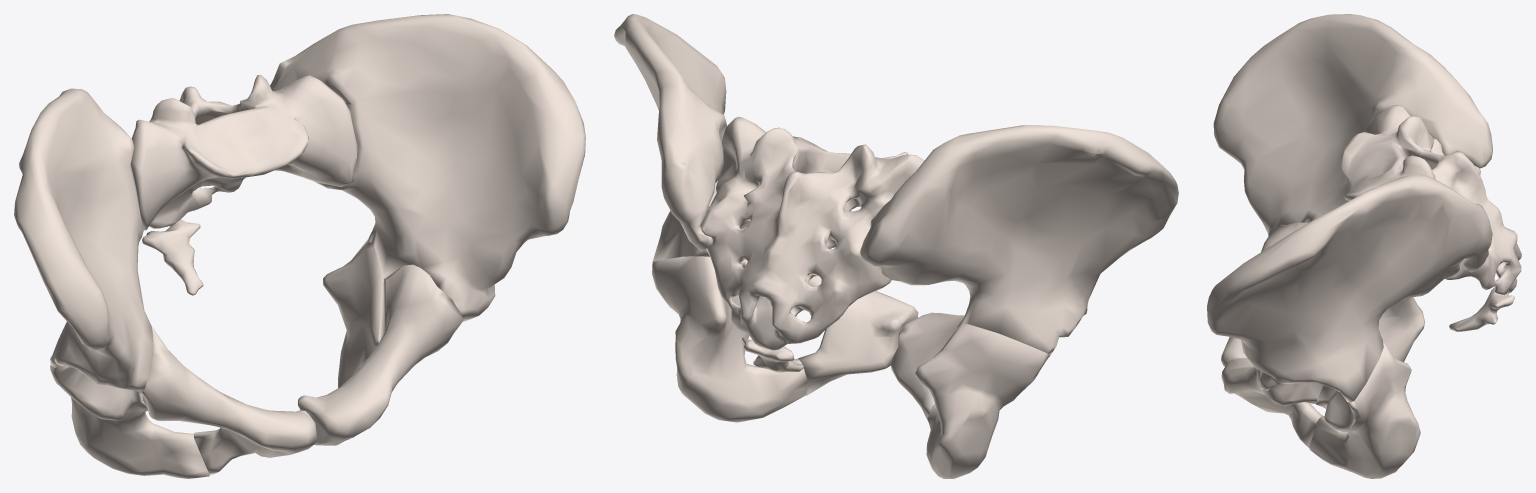
File: vh_f_pelvis.glb
3 views of the same model, side by side, from view 1: azimuth 30°, elevation 25°; view 2: azimuth 150°, elevation 25°; view 3: azimuth 270°, elevation 25° (orthographic). The views are drawn at different scales.
Visible parts, largest first — view 1: VH_F_ilium_compact_bone_L, VH_F_ilium_compact_bone_R, VH_F_sacrum, VH_F_pubis_compact_bone_L, VH_F_pubis_compact_bone_R, VH_F_ischium_compact_bone_R, VH_F_ischium_compact_bone_L, VH_F_coccyx; view 2: VH_F_ilium_compact_bone_R, VH_F_sacrum, VH_F_ilium_compact_bone_L, VH_F_ischium_compact_bone_L, VH_F_ischium_compact_bone_R, VH_F_pubis_compact_bone_L, VH_F_pubis_compact_bone_R, VH_F_coccyx; view 3: VH_F_ilium_compact_bone_L, VH_F_ilium_compact_bone_R, VH_F_sacrum, VH_F_ischium_compact_bone_L, VH_F_pubis_compact_bone_L, VH_F_ischium_compact_bone_R, VH_F_coccyx, VH_F_pubis_compact_bone_R.
Part boxes in pixels (left/top/right/bottom): VH_F_ilium_compact_bone_L: left=270, top=14, right=585, bottom=321; VH_F_ilium_compact_bone_R: left=14, top=88, right=153, bottom=393; VH_F_sacrum: left=131, top=75, right=357, bottom=230; VH_F_pubis_compact_bone_L: left=297, top=265, right=463, bottom=445; VH_F_pubis_compact_bone_R: left=140, top=326, right=317, bottom=475; VH_F_ischium_compact_bone_R: left=50, top=356, right=209, bottom=478; VH_F_ischium_compact_bone_L: left=323, top=239, right=384, bottom=437; VH_F_coccyx: left=142, top=219, right=203, bottom=295; VH_F_ilium_compact_bone_R: left=860, top=125, right=1178, bottom=355; VH_F_sacrum: left=701, top=116, right=924, bottom=350; VH_F_ilium_compact_bone_L: left=614, top=14, right=746, bottom=261; VH_F_ischium_compact_bone_L: left=652, top=256, right=807, bottom=422; VH_F_ischium_compact_bone_R: left=915, top=323, right=1050, bottom=478; VH_F_pubis_compact_bone_L: left=741, top=259, right=918, bottom=395; VH_F_pubis_compact_bone_R: left=890, top=312, right=964, bottom=422; VH_F_coccyx: left=742, top=337, right=803, bottom=372; VH_F_ilium_compact_bone_L: left=1207, top=174, right=1492, bottom=402; VH_F_ilium_compact_bone_R: left=1213, top=14, right=1492, bottom=236; VH_F_sacrum: left=1341, top=105, right=1521, bottom=295; VH_F_ischium_compact_bone_L: left=1309, top=341, right=1420, bottom=478; VH_F_pubis_compact_bone_L: left=1221, top=358, right=1323, bottom=447; VH_F_ischium_compact_bone_R: left=1378, top=297, right=1424, bottom=361; VH_F_coccyx: left=1449, top=287, right=1514, bottom=331; VH_F_pubis_compact_bone_R: left=1221, top=222, right=1307, bottom=366.
Bounding box in the file's own units: 0.3167 × 0.2119 × 0.1823.
